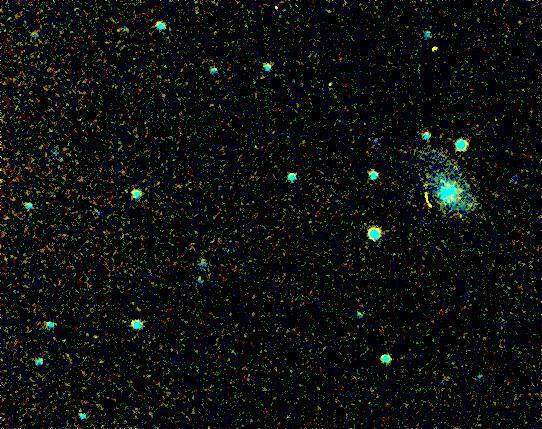star: (425, 36, 455, 66)
